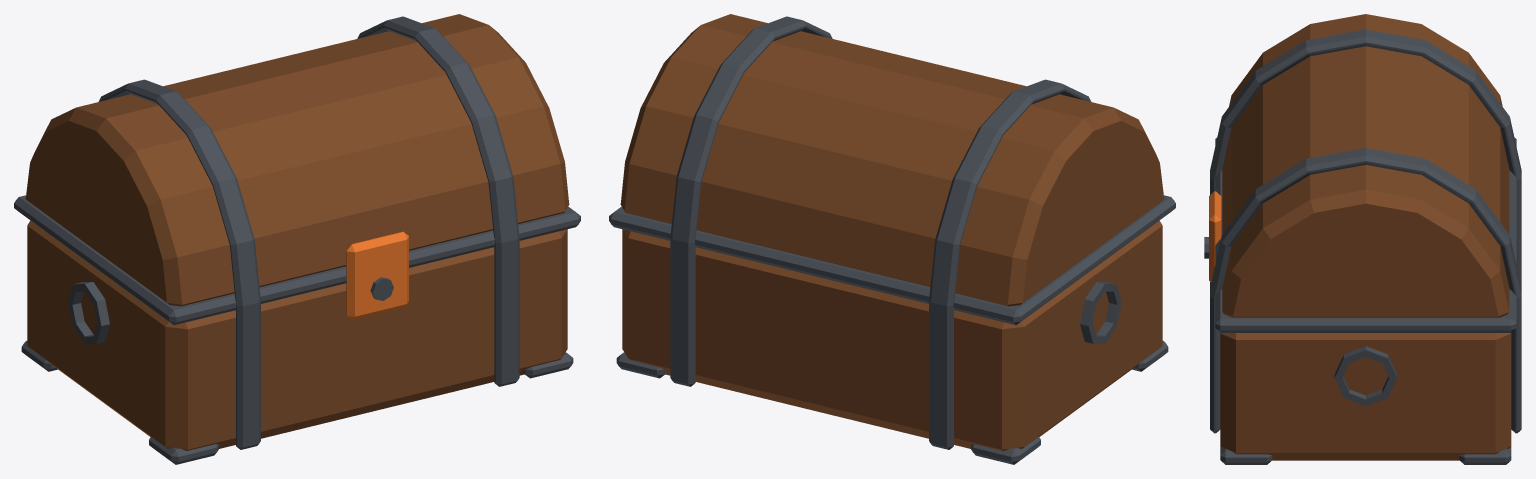
Rendered from treasure_chest.obj.
3 renders of one model, left to right at view 1: azimuth 30°, elevation 25°; view 2: azimuth 150°, elevation 25°; view 3: azimuth 270°, elevation 25°, orthographic. The views are drawn at different scales.
Parts seen in each view (by area): view 1: treasure_chest; view 2: treasure_chest; view 3: treasure_chest.
Boxes of the visible parts, bbox=[...] form: treasure_chest: bbox=[14, 14, 580, 464]; treasure_chest: bbox=[609, 14, 1175, 464]; treasure_chest: bbox=[1204, 14, 1521, 464].
Bounding box in the file's own units: 0.888 × 0.6 × 0.611.
